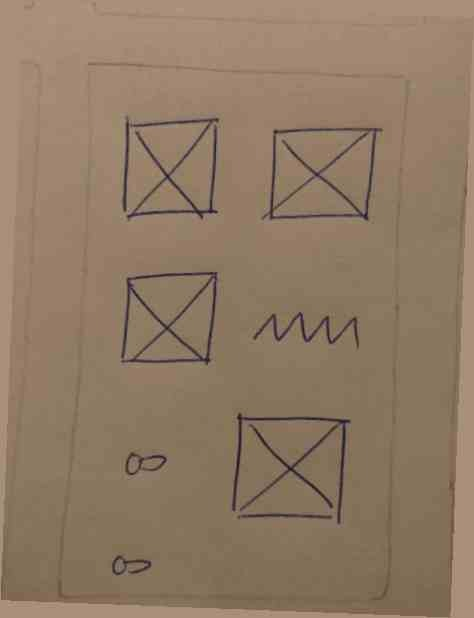image: (221, 404, 357, 536), (255, 114, 389, 237), (108, 109, 230, 224), (113, 262, 224, 372)
switch: (106, 438, 180, 486), (98, 541, 167, 585)
text: (240, 296, 373, 360)
